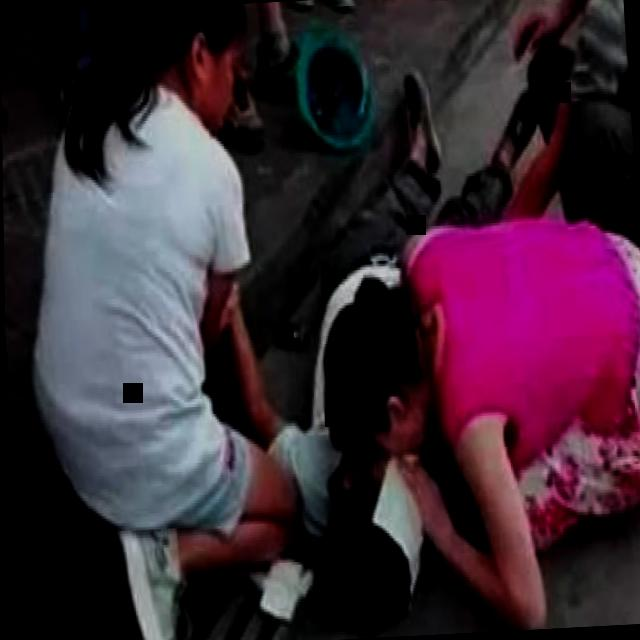Fall-Detected: (256, 29, 500, 605)
